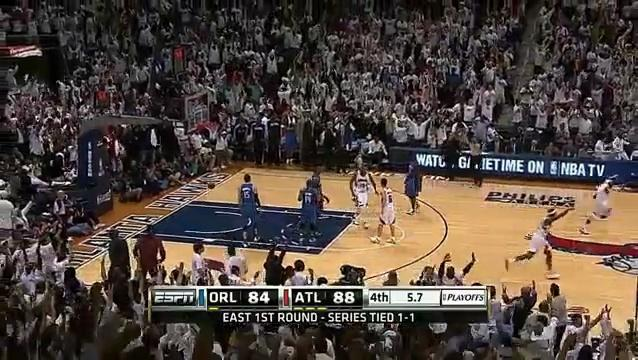Backboard: (185, 94, 212, 131)
Ball: (208, 183, 215, 189)
Basket: (202, 121, 220, 139)
Person: (504, 202, 579, 281), (577, 170, 622, 237), (369, 179, 403, 248), (236, 173, 263, 248), (297, 180, 326, 242), (349, 164, 376, 229), (400, 157, 424, 219), (304, 163, 326, 203)
Referee: (466, 133, 492, 189)
Shot Clock: (170, 47, 187, 74), (93, 91, 110, 109)
